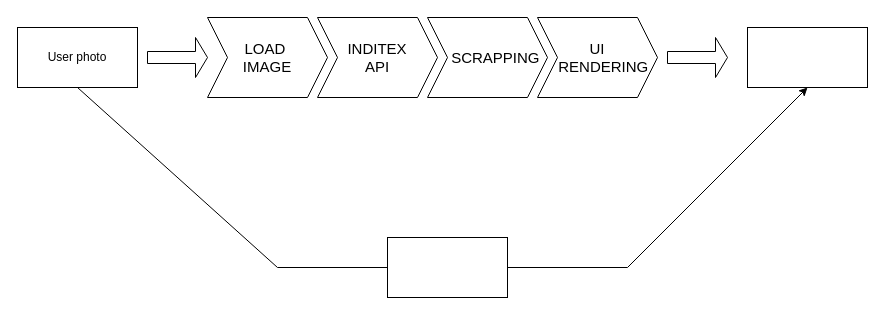
Image size: 885x315. Some labels were removed from this diagram. The centre of each missing label's shape, as x and y in pixels:
"CACHE MEMORY" goes at pixel 447 267.
"Final View" goes at pixel 807 57.
